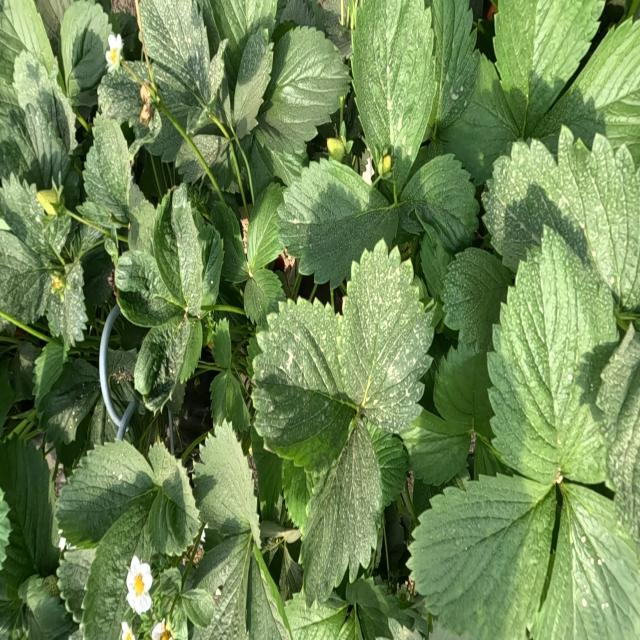Flowers: (126, 556, 151, 614), (106, 33, 122, 71), (120, 622, 133, 639)
Leaves: (490, 231, 614, 483), (409, 474, 554, 638), (251, 300, 353, 471), (341, 244, 432, 431), (533, 481, 639, 639), (353, 1, 437, 182), (278, 160, 398, 284), (300, 422, 381, 604), (494, 0, 601, 134), (560, 135, 639, 311), (484, 140, 580, 268), (258, 27, 350, 154), (57, 441, 153, 544), (82, 501, 153, 639), (138, 1, 209, 129), (447, 54, 516, 183), (601, 323, 639, 547), (1, 436, 58, 575), (193, 422, 257, 536), (404, 154, 478, 251), (442, 247, 511, 349), (199, 0, 276, 87), (193, 529, 251, 639), (431, 0, 479, 131), (13, 50, 74, 148), (135, 315, 202, 402), (148, 441, 199, 553), (1, 103, 69, 186), (434, 343, 491, 436), (401, 408, 469, 485), (39, 359, 99, 446), (83, 117, 131, 222), (60, 0, 111, 91), (2, 0, 58, 81), (115, 249, 173, 327), (1, 230, 49, 323), (232, 28, 272, 136), (1, 173, 52, 257), (171, 184, 204, 309), (348, 577, 411, 635), (367, 425, 407, 507), (251, 544, 286, 637), (247, 183, 283, 273), (18, 575, 69, 638), (48, 263, 87, 345), (211, 198, 248, 283), (285, 591, 347, 639), (57, 549, 95, 619), (98, 65, 143, 123), (211, 369, 249, 433), (244, 267, 286, 324), (33, 342, 66, 412), (420, 233, 453, 299), (282, 459, 313, 529), (82, 245, 112, 317), (316, 0, 350, 56), (10, 341, 39, 399), (146, 116, 183, 161), (474, 436, 506, 479), (280, 0, 324, 31), (175, 142, 206, 183), (0, 364, 14, 436), (194, 136, 227, 166), (212, 320, 231, 368), (78, 225, 103, 251), (180, 111, 186, 127)
Strawberries: (49, 274, 64, 297), (327, 139, 344, 159), (486, 4, 497, 21), (381, 155, 391, 173), (140, 107, 150, 124)
